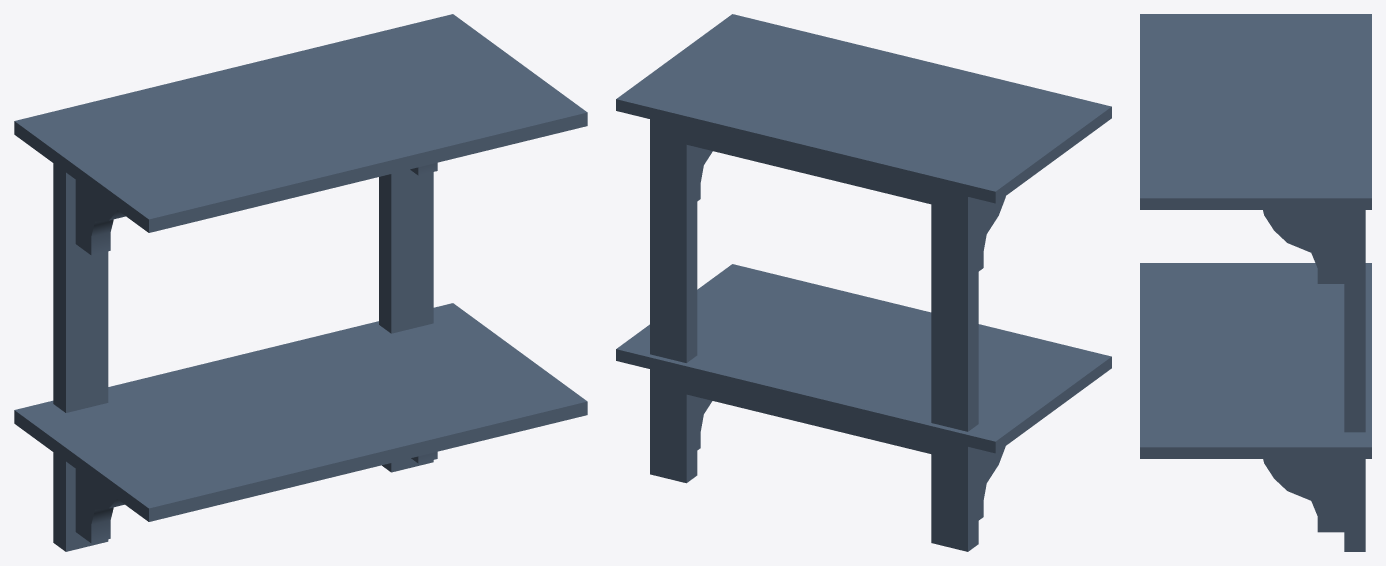
The model's file is WallShelf_02.fbx.
The picture shows the model from 3 angles, left to right: view 1: azimuth 30°, elevation 25°; view 2: azimuth 150°, elevation 25°; view 3: azimuth 270°, elevation 25°; orthographic projection. The views are drawn at different scales.
Visible parts, largest first — view 1: WallShelf_02; view 2: WallShelf_02; view 3: WallShelf_02.
Part boxes in pixels (x1,y1,x2,y2): WallShelf_02: [14, 14, 587, 551]; WallShelf_02: [616, 14, 1111, 551]; WallShelf_02: [1140, 14, 1371, 551].
Bounding box in the file's own units: 0.5359 × 0.4994 × 0.2846.
